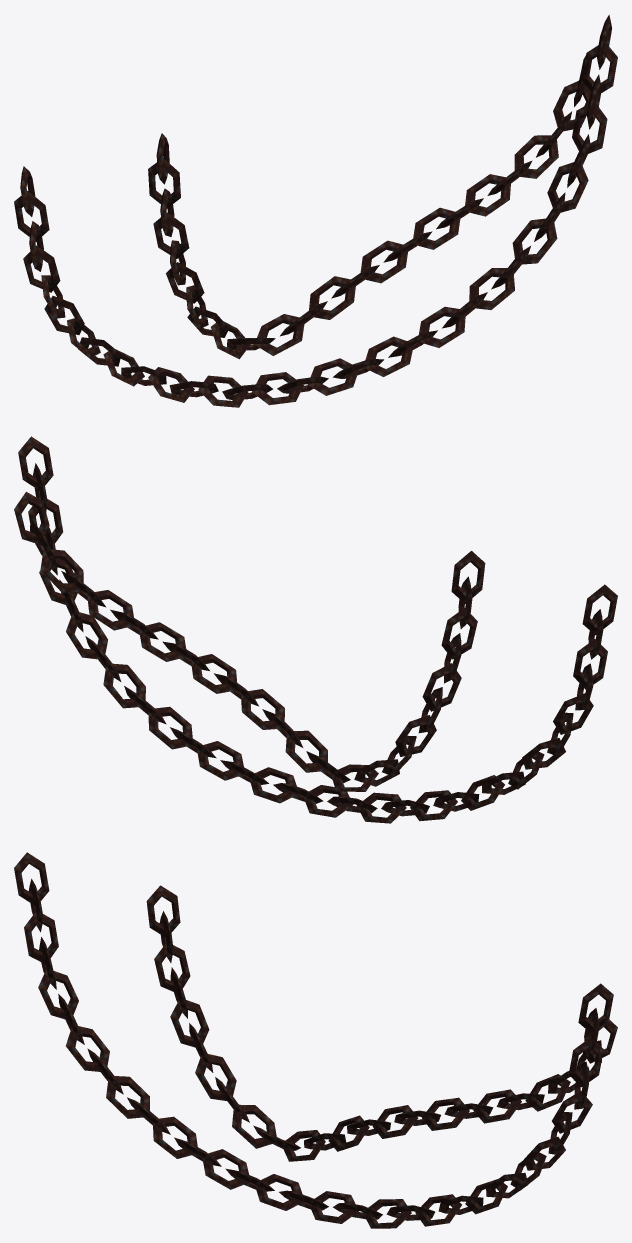
Rendered from SM_Dungeon_Chain_Double.fbx.
The picture shows the model from 3 angles, top to bottom: view 1: azimuth 30°, elevation 25°; view 2: azimuth 150°, elevation 25°; view 3: azimuth 330°, elevation 25°; orthographic projection. The views are drawn at different scales.
Parts seen in each view (by area): view 1: SM_Dungeon_Chain_Hanging_Double; view 2: SM_Dungeon_Chain_Hanging_Double; view 3: SM_Dungeon_Chain_Hanging_Double.
Boxes of the visible parts, x1,y1,x2,y2 form: SM_Dungeon_Chain_Hanging_Double: (14,14,617,407); SM_Dungeon_Chain_Hanging_Double: (14,436,617,823); SM_Dungeon_Chain_Hanging_Double: (14,852,617,1228).
Bounding box in the file's own units: 123 × 60.57 × 9.59.
